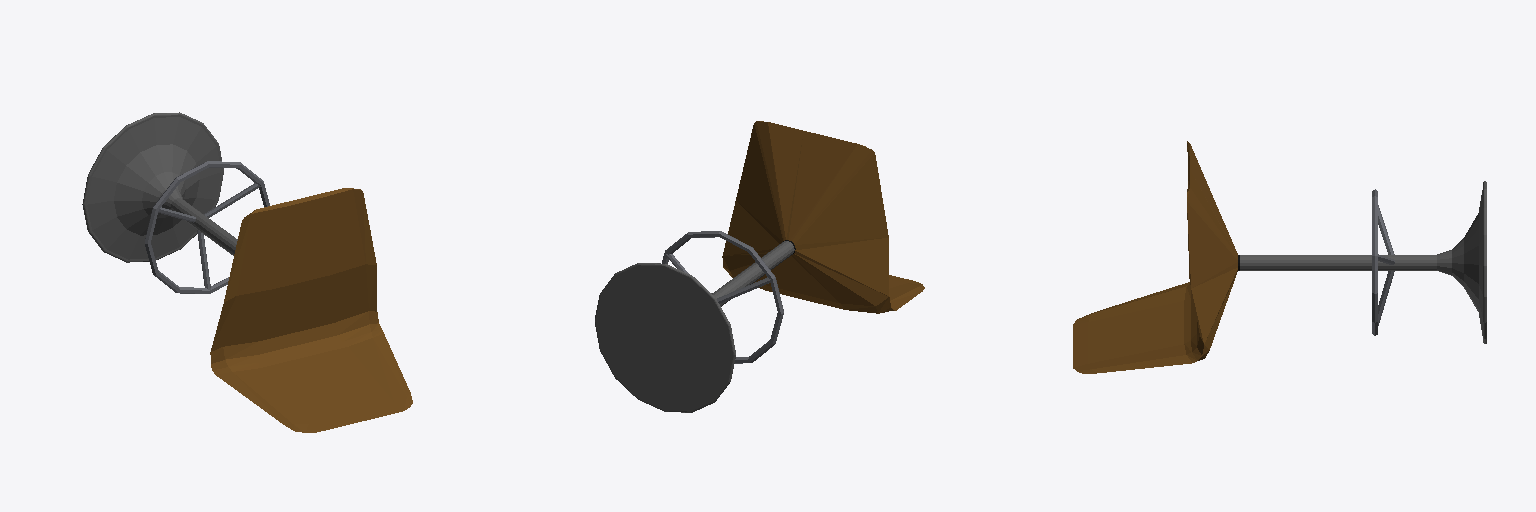
File: barchair.obj
The picture shows the model from 3 angles: view 1: azimuth 30°, elevation 25°; view 2: azimuth 150°, elevation 25°; view 3: azimuth 270°, elevation 25°; orthographic projection.
Visible parts, largest first — view 1: bar_chair_; view 2: bar_chair_; view 3: bar_chair_.
Boxes of the visible parts, box(x1,y1,x2,y2) form: bar_chair_: box(82, 112, 412, 432); bar_chair_: box(595, 121, 924, 412); bar_chair_: box(1073, 141, 1486, 373).
Bounding box in the file's own units: 0.6105 × 0.6204 × 1.29.